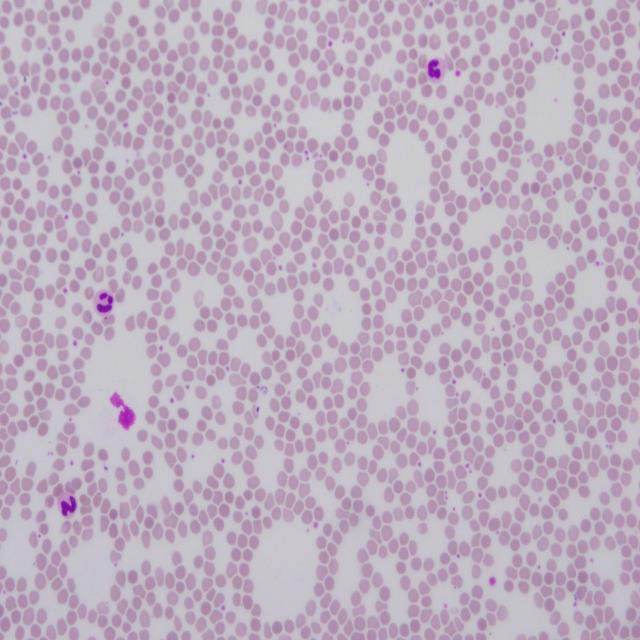cell: (426, 57, 448, 83), (94, 290, 114, 316)
